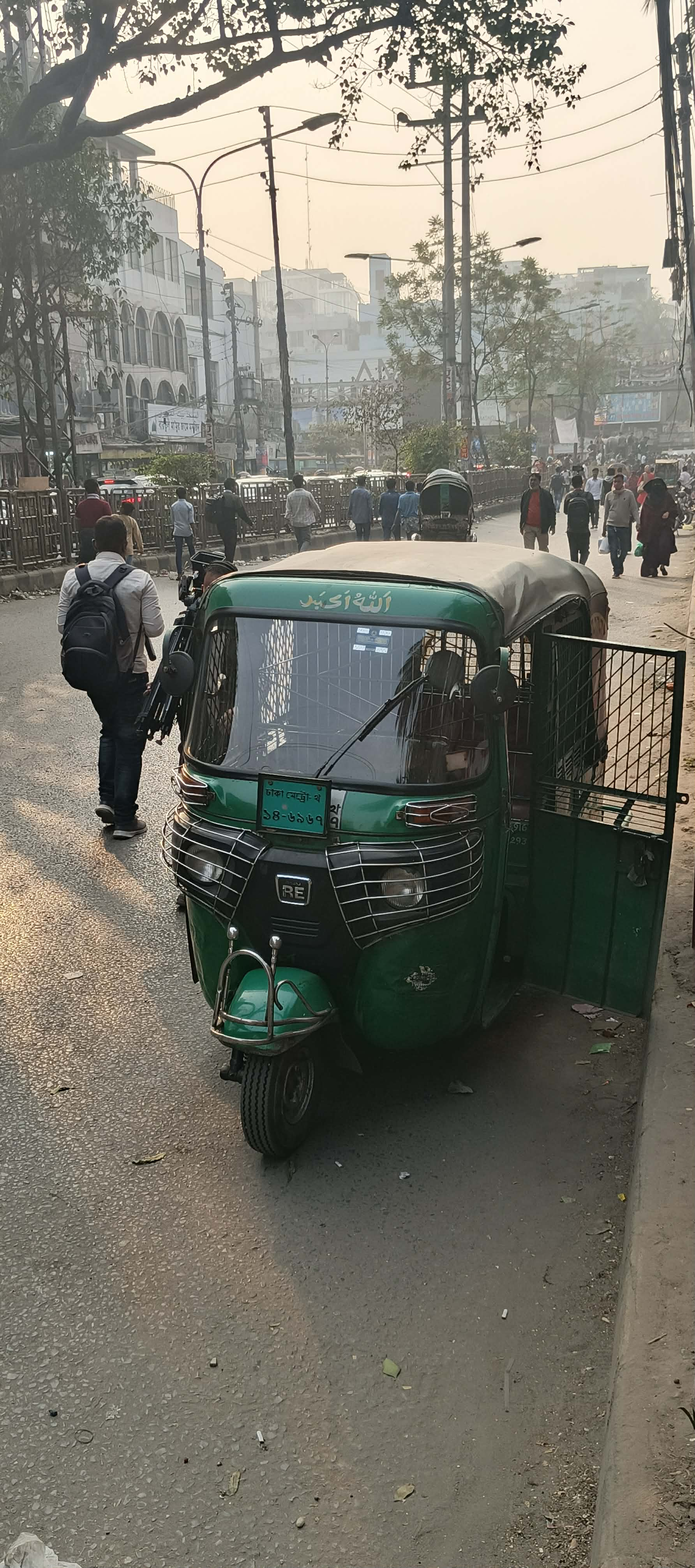cng: (152, 531, 695, 1174)
